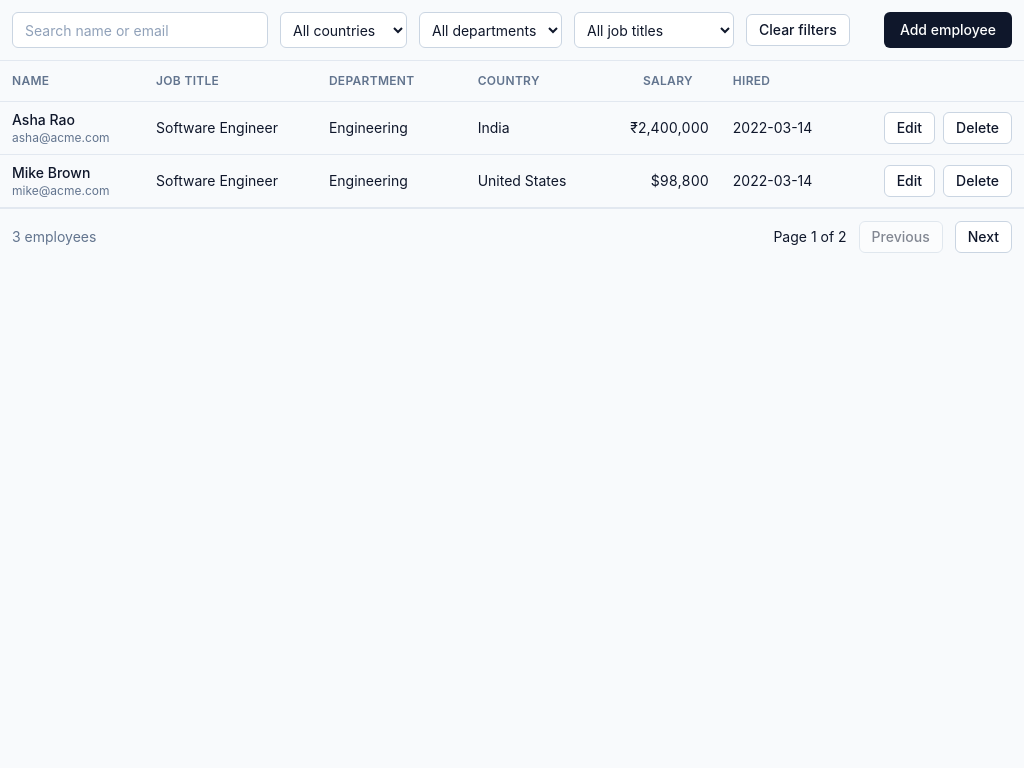
Test: adding, editing and deleting employees › deleting › sends nothing when cancelled
Expected: the text "Asha Rao" is shown, [12,110,75,128]
What coordinates should you click on to do the following:
click the button with aria-label "Delete Asha Rao"
I would click on:
 (978, 128)
Its box is [943,112,1012,144].
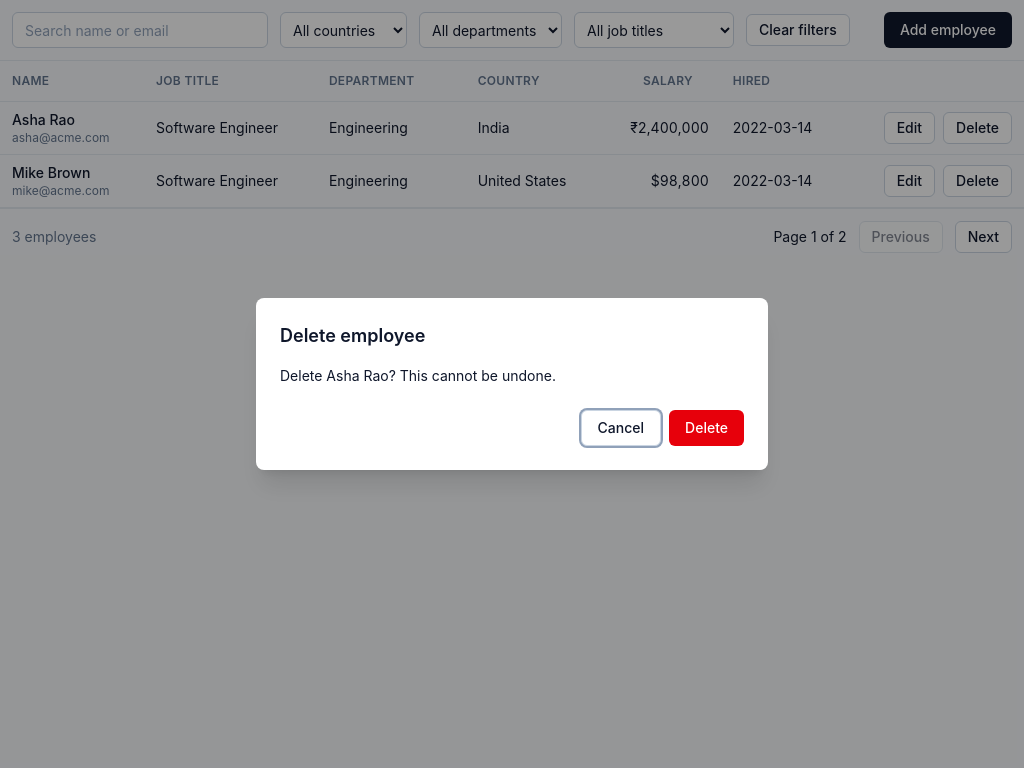
What coordinates should you click on to do the following:
click the button "Cancel"
I would click on:
 (621, 428)
Its box is [581,410,661,446].
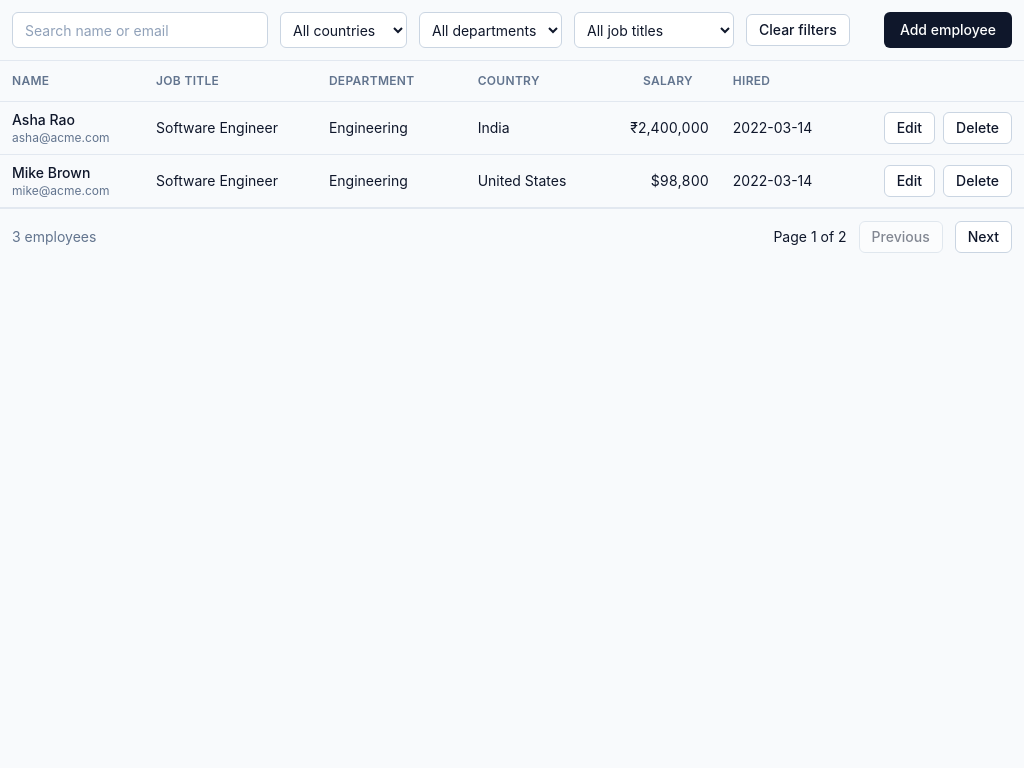
Expected: the dialog is gone
